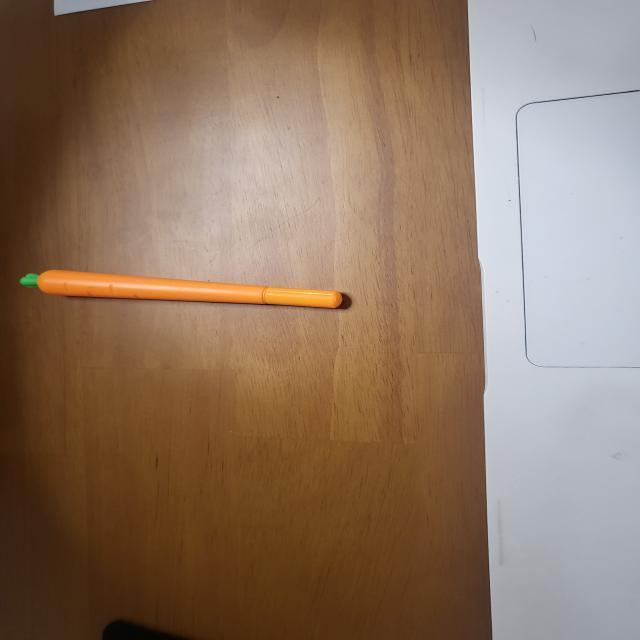carrot: (38, 262, 348, 312)
